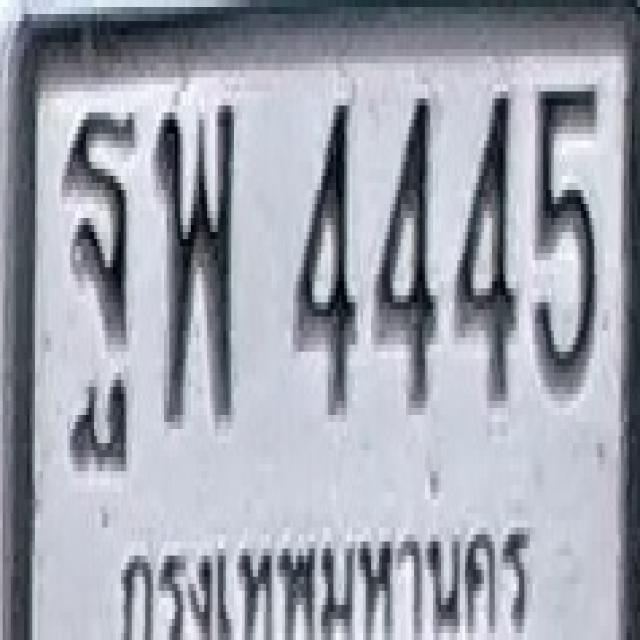4: (374, 88, 436, 404), (293, 98, 355, 408), (454, 84, 516, 394)
5: (534, 81, 598, 390)
A16: (63, 102, 136, 418)
A30: (155, 98, 235, 422)
BKK: (113, 499, 534, 640)
